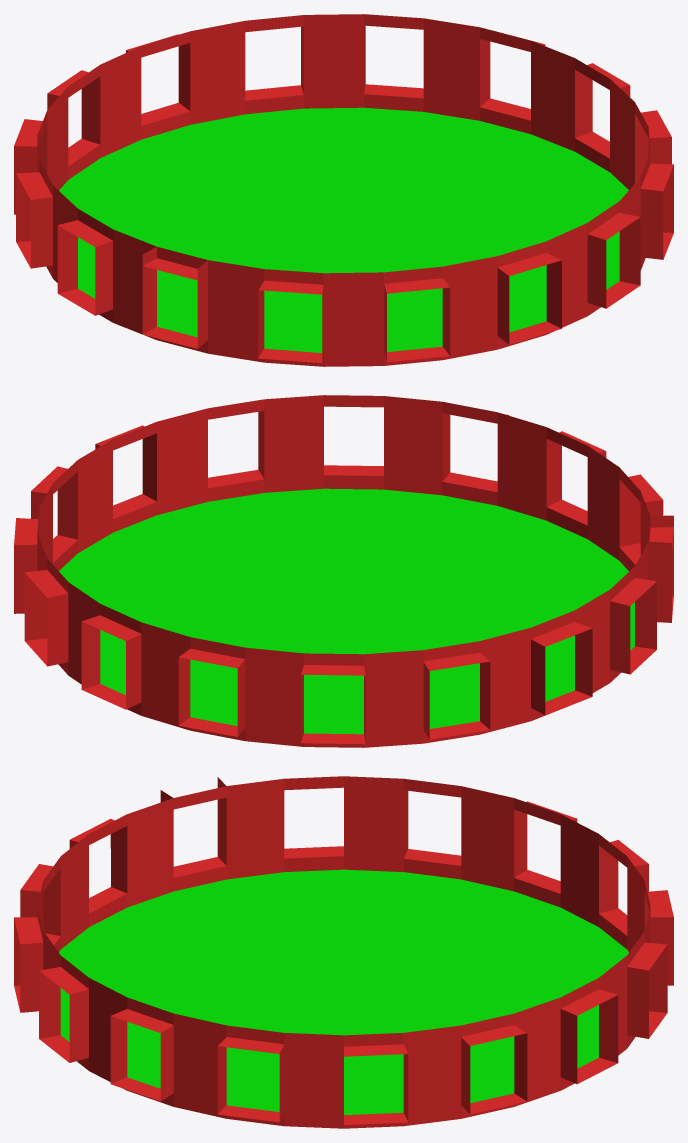
The model's file is F_krąg_02.fbx.
3 views of the same model, one above another, from view 1: azimuth 30°, elevation 25°; view 2: azimuth 150°, elevation 25°; view 3: azimuth 270°, elevation 25° (orthographic).
Visible parts, largest first — view 1: F_krąg _02; view 2: F_krąg _02; view 3: F_krąg _02.
Part boxes in pixels (bbox=[...]): F_krąg _02: bbox=[14, 14, 673, 366]; F_krąg _02: bbox=[14, 395, 673, 747]; F_krąg _02: bbox=[14, 776, 673, 1128].
Bounding box in the file's own units: 11969 × 1869 × 11969.
